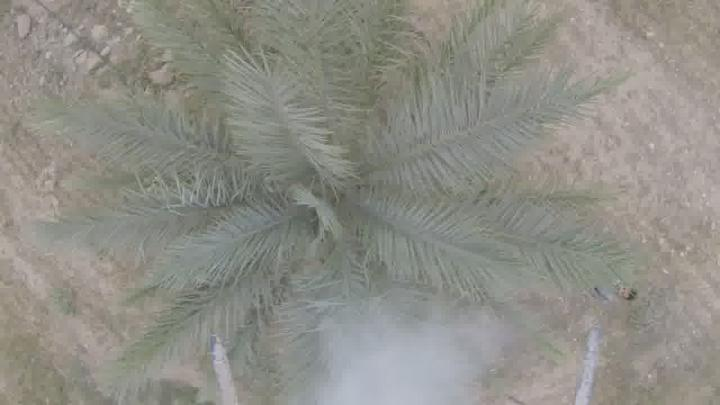Date-Palm-Crown: (127, 68, 468, 340)
